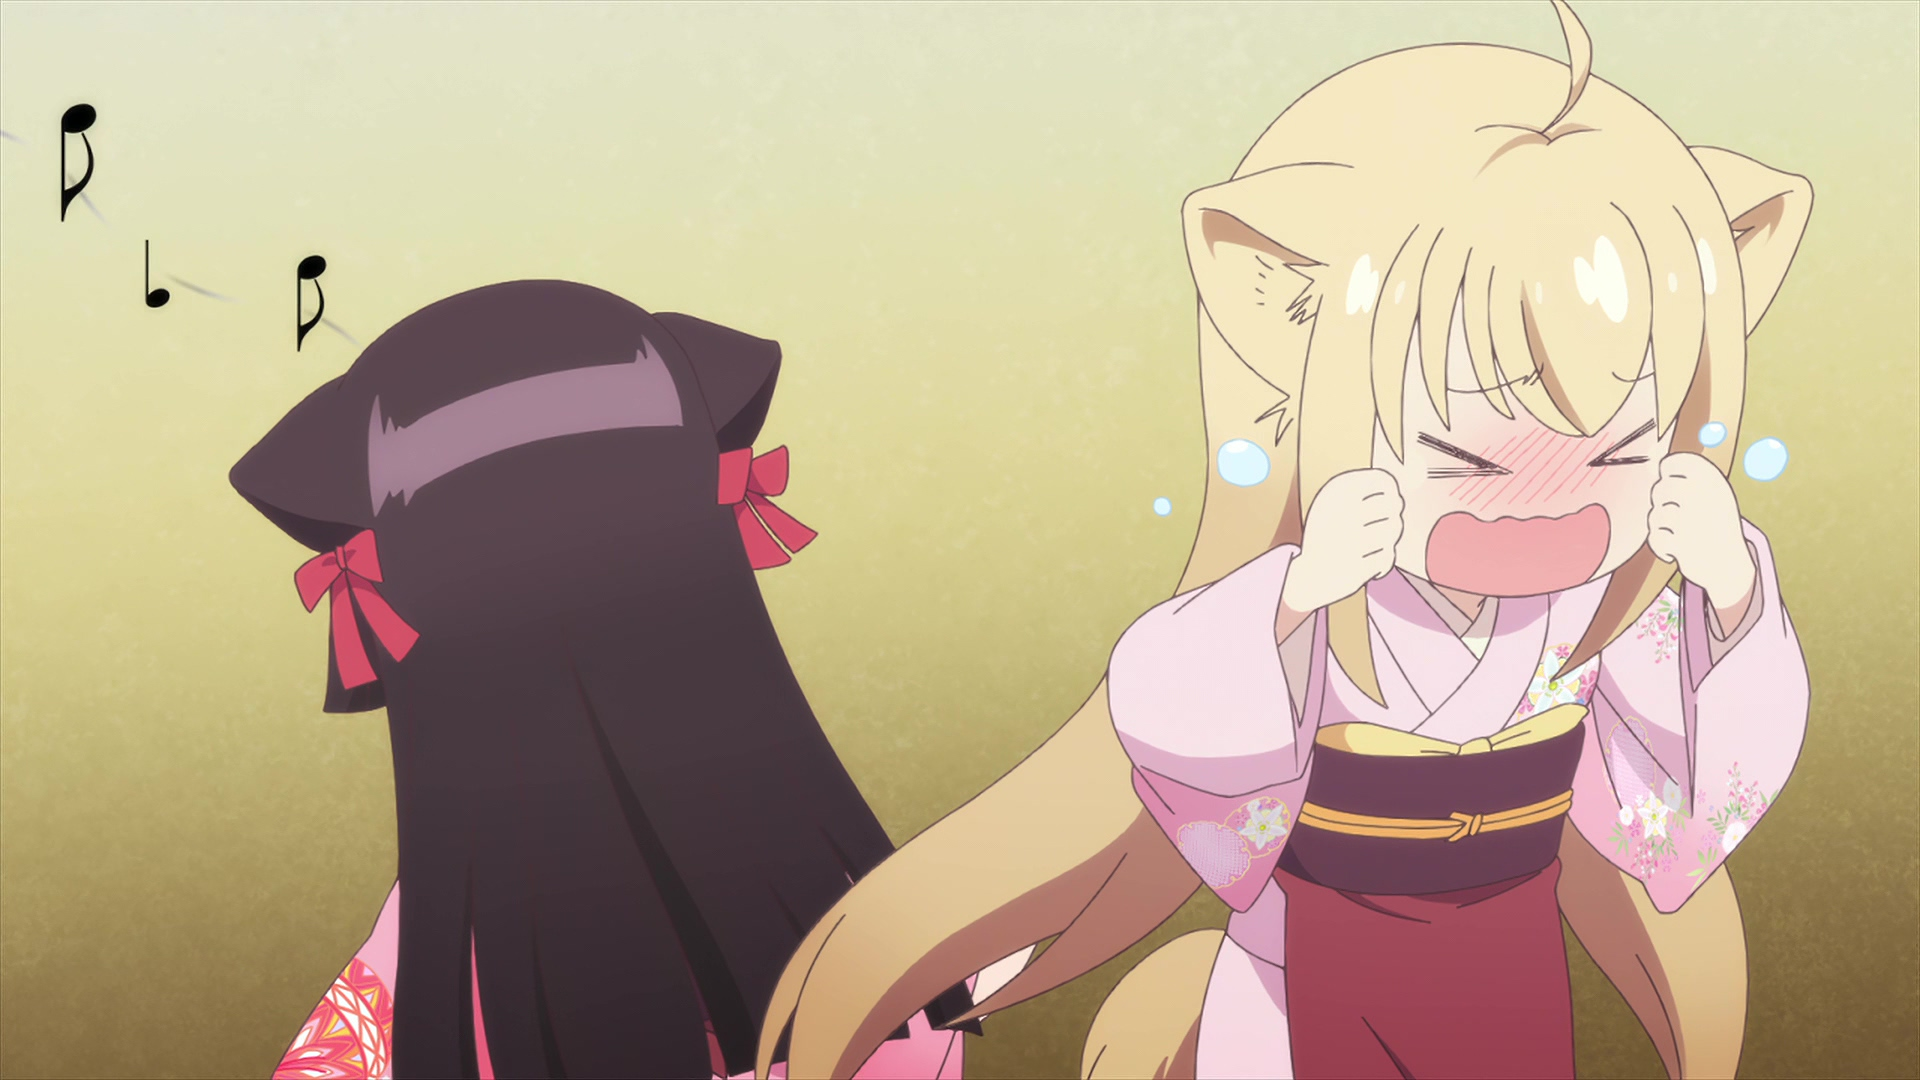柚: (756, 1, 1815, 1080)
樱: (225, 277, 982, 1080)
